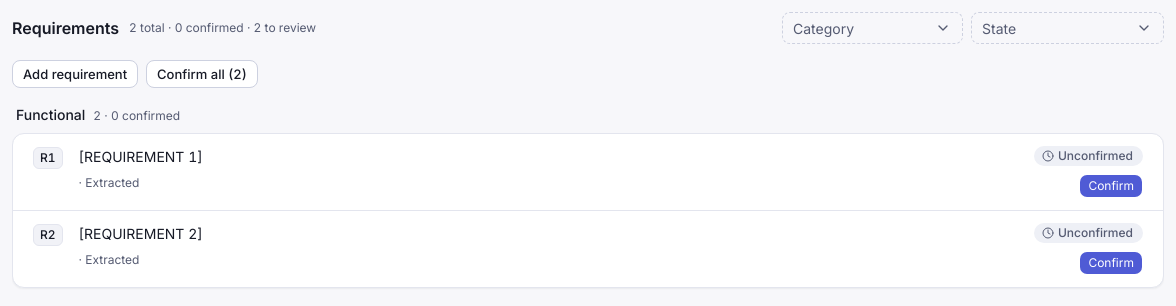
Test: confirming Requirements › Confirm on a row confirms it and shows Confirmed
Click the button with aria-label "Confirm: [REQUIREMENT 1]" at (1111, 186), box x1=1079 y1=174 x2=1143 y2=198
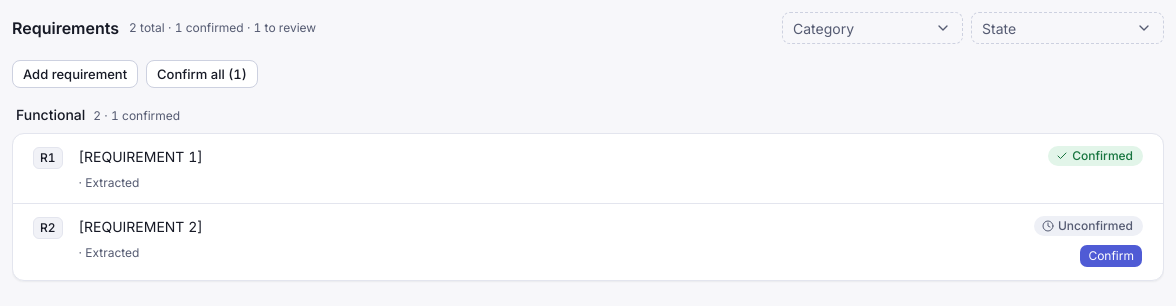
Check: the text "Confirmed" is shown, box x1=1048 y1=146 x2=1143 y2=166
Check: the button "Confirm all (1)" is shown, box x1=146 y1=60 x2=258 y2=88
